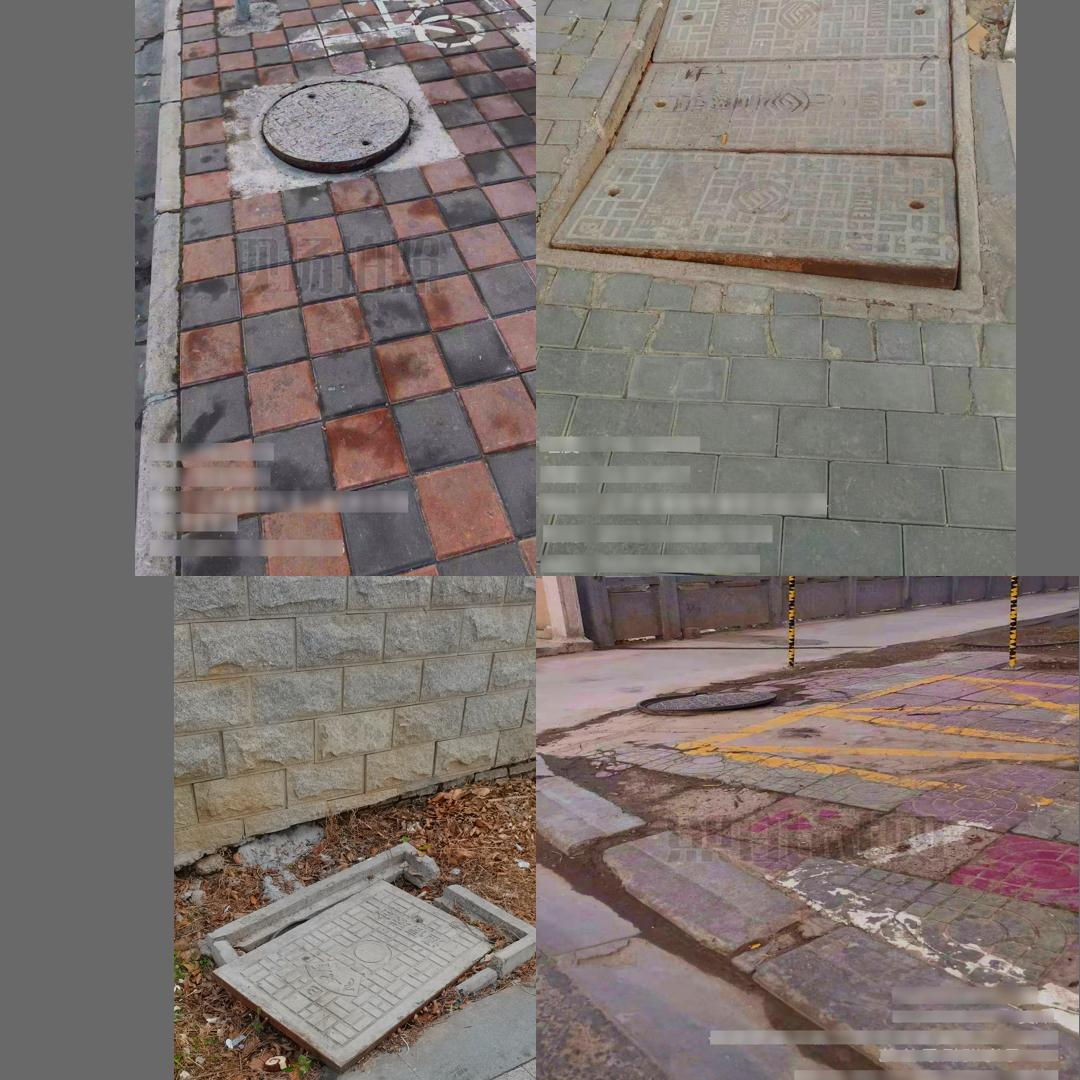uncovered: (545, 0, 984, 309), (204, 840, 533, 1065), (253, 74, 419, 177), (627, 677, 794, 721)
